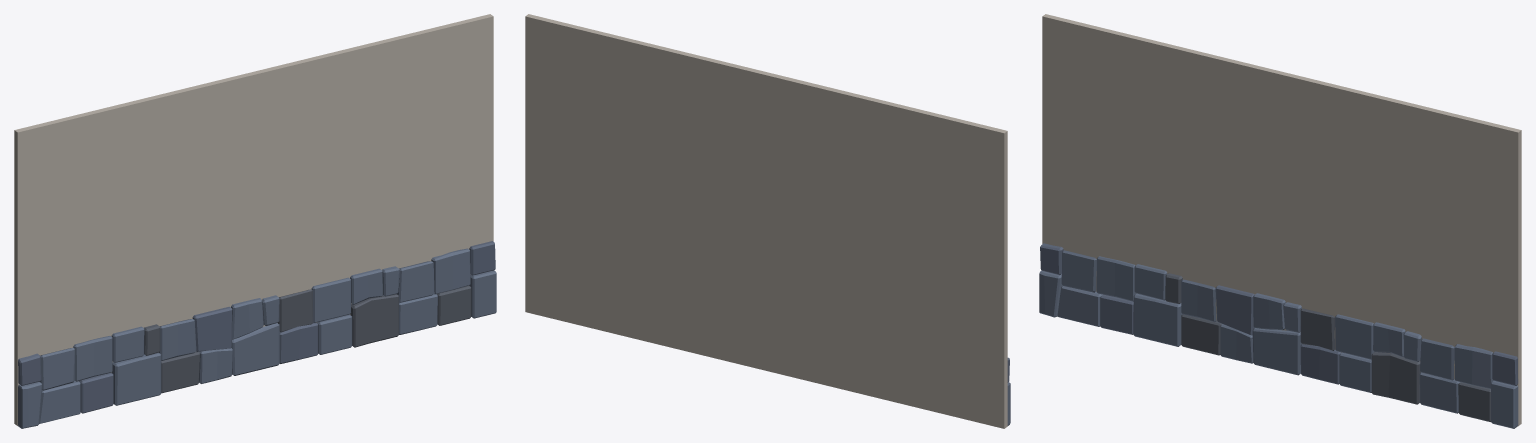
The model's file is Wall_10.fbx.
3 renders of one model, left to right at view 1: azimuth 30°, elevation 25°; view 2: azimuth 150°, elevation 25°; view 3: azimuth 330°, elevation 25°, orthographic.
Visible parts, largest first — view 1: Wall_10; view 2: Wall_10; view 3: Wall_10.
Boxes of the visible parts, x1=… form: Wall_10: x1=14, y1=14, x2=496, y2=428; Wall_10: x1=525, y1=14, x2=1010, y2=428; Wall_10: x1=1039, y1=14, x2=1521, y2=428.
Size of the model in its own units: 473 by 279 by 13.64.
